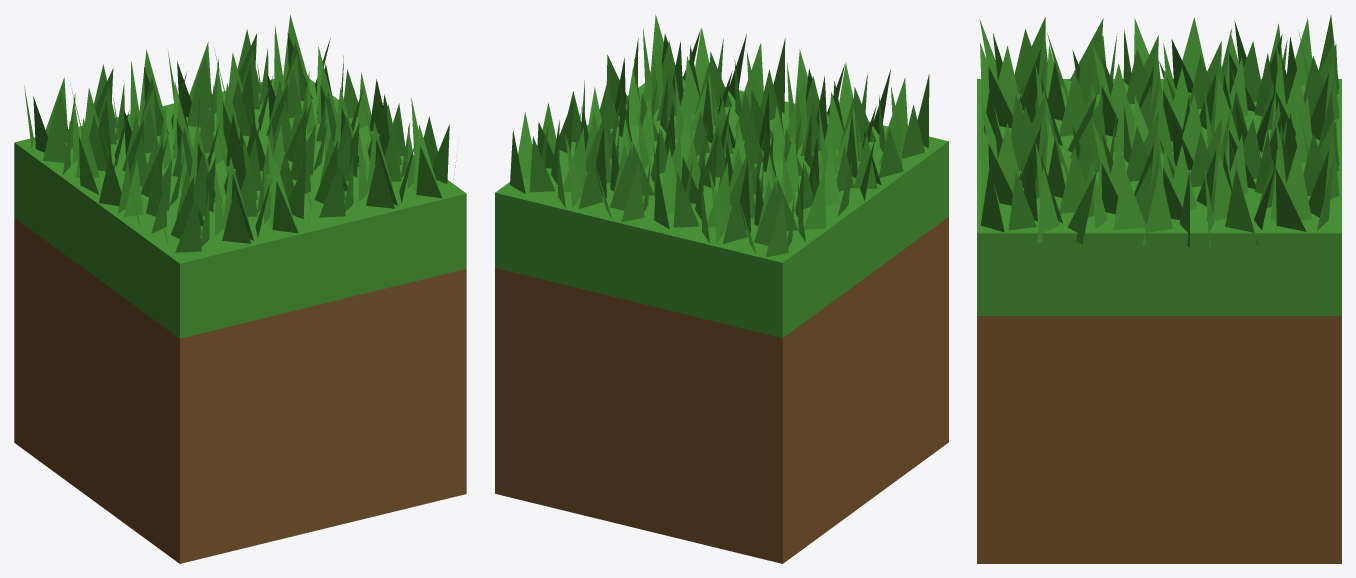
The model's file is Grass Block.glb.
The picture shows the model from 3 angles, left to right: view 1: azimuth 30°, elevation 25°; view 2: azimuth 150°, elevation 25°; view 3: azimuth 270°, elevation 25°; orthographic projection. The views are drawn at different scales.
Visible parts, largest first — view 1: Cube, Grass, Grass.001; view 2: Cube, Grass, Grass.001; view 3: Cube, Grass.001, Grass.
Boxes of the visible parts, x1,y1,x2,y2 form: Cube: (14,78,466,563); Grass: (24,49,313,252); Grass.001: (167,15,457,217); Cube: (495,76,948,563); Grass: (654,49,929,257); Grass.001: (510,14,785,222); Cube: (977,79,1341,563); Grass.001: (979,92,1339,247); Grass: (979,15,1339,153).
Bounding box in the file's own units: 2.06 × 2.43 × 2.
